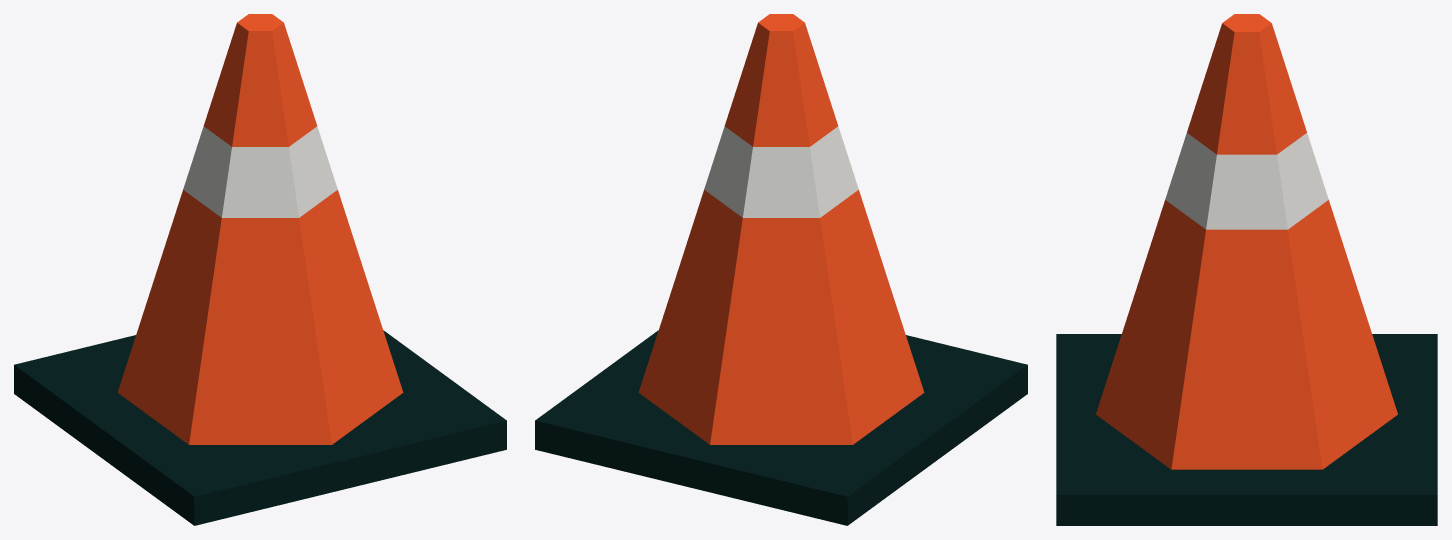
The model's file is trafficcone.fbx.
3 renders of one model, left to right at view 1: azimuth 30°, elevation 25°; view 2: azimuth 150°, elevation 25°; view 3: azimuth 270°, elevation 25°, orthographic. The views are drawn at different scales.
Visible parts, largest first — view 1: Cone; view 2: Cone; view 3: Cone.
Boxes of the visible parts, x1,y1,x2,y2 form: Cone: (14, 14, 506, 525); Cone: (535, 14, 1027, 525); Cone: (1056, 14, 1437, 525).
Size of the model in its own units: 200 by 244 by 200.
